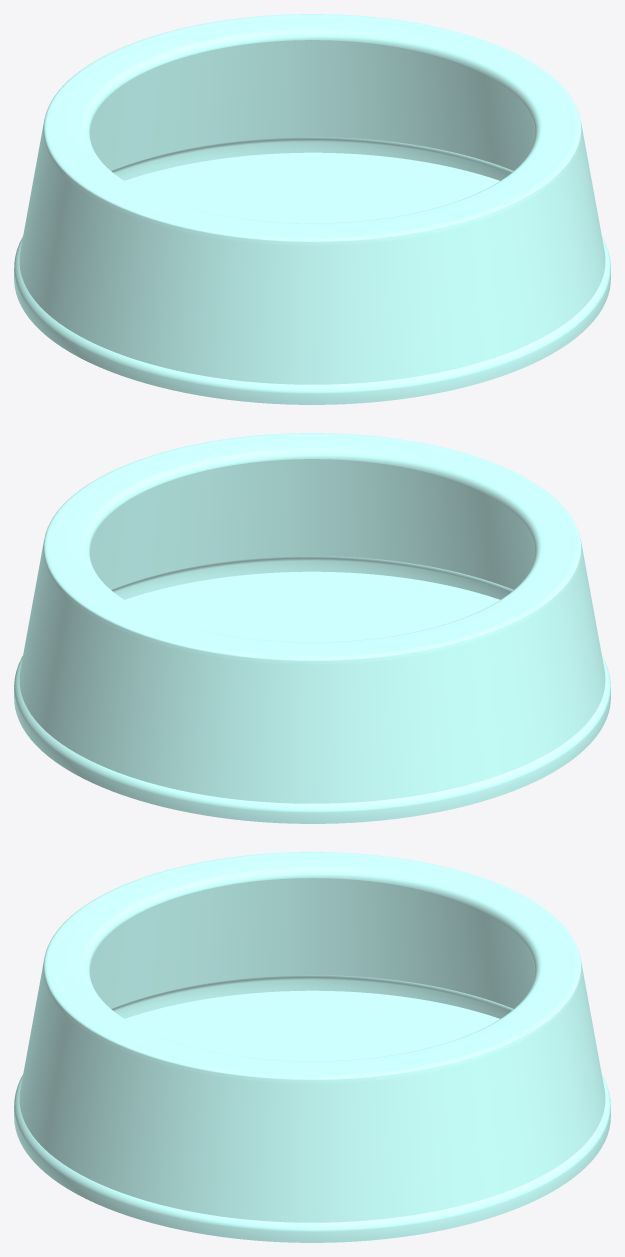
File: empty_food_bowl.gltf
The picture shows the model from 3 angles, top to bottom: view 1: azimuth 30°, elevation 25°; view 2: azimuth 150°, elevation 25°; view 3: azimuth 270°, elevation 25°; orthographic projection.
Visible parts, largest first — view 1: bowl; view 2: bowl; view 3: bowl.
Part boxes in pixels (x1=…): bowl: x1=14, y1=14, x2=610, y2=404; bowl: x1=14, y1=433, x2=610, y2=823; bowl: x1=14, y1=852, x2=610, y2=1242.
Size of the model in its own units: 4.1 by 1.16 by 4.1.
